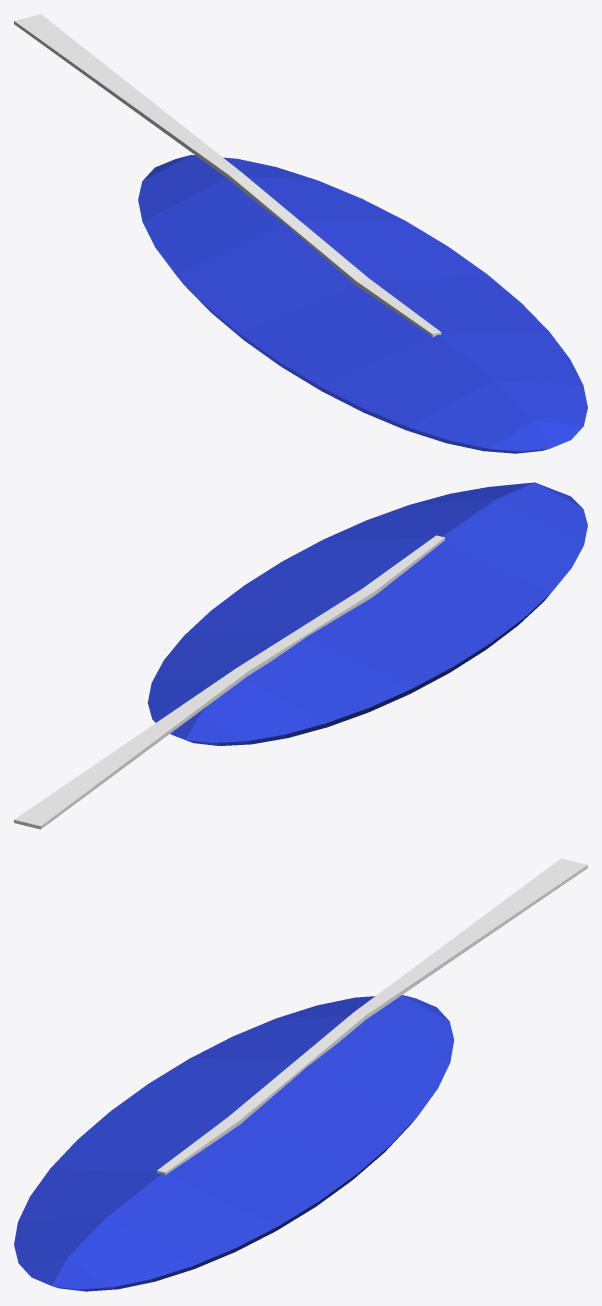
The model's file is feather.glb.
3 views of the same model, one above another, from view 1: azimuth 30°, elevation 25°; view 2: azimuth 150°, elevation 25°; view 3: azimuth 330°, elevation 25° (orthographic).
Visible parts, largest first — view 1: Circle, Plane; view 2: Circle, Plane; view 3: Circle, Plane.
Boxes of the visible parts, x1=… form: Circle: x1=138, y1=155, x2=587, y2=453; Plane: x1=14, y1=14, x2=441, y2=337; Circle: x1=147, y1=482, x2=587, y2=745; Plane: x1=14, y1=535, x2=444, y2=829; Circle: x1=14, y1=995, x2=454, y2=1291; Plane: x1=157, y1=858, x2=587, y2=1175.
Bounding box in the file's own units: 2 × 0.414 × 7.3.
